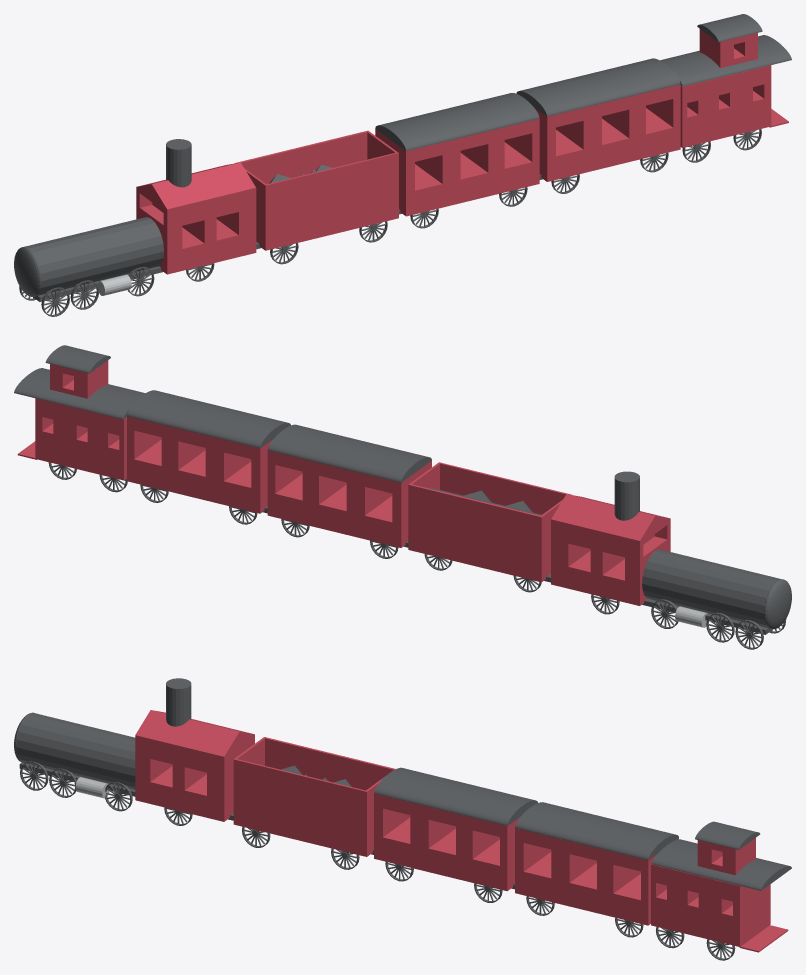
File: train.glb
The picture shows the model from 3 angles, top to bottom: view 1: azimuth 30°, elevation 25°; view 2: azimuth 150°, elevation 25°; view 3: azimuth 330°, elevation 25°; orthographic projection.
Parts seen in each view (by area): view 1: Mesh_Mesh_head_geo.001_lambert2SG.001; view 2: Mesh_Mesh_head_geo.001_lambert2SG.001; view 3: Mesh_Mesh_head_geo.001_lambert2SG.001.
Part boxes in pixels (left/top/right/bottom): Mesh_Mesh_head_geo.001_lambert2SG.001: left=14, top=14, right=791, bottom=316; Mesh_Mesh_head_geo.001_lambert2SG.001: left=14, top=345, right=791, bottom=649; Mesh_Mesh_head_geo.001_lambert2SG.001: left=14, top=678, right=791, bottom=960.
Size of the model in its own units: 170 by 28.15 by 12.32.
